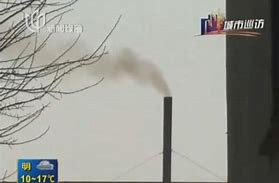smoke: (109, 50, 173, 97)
